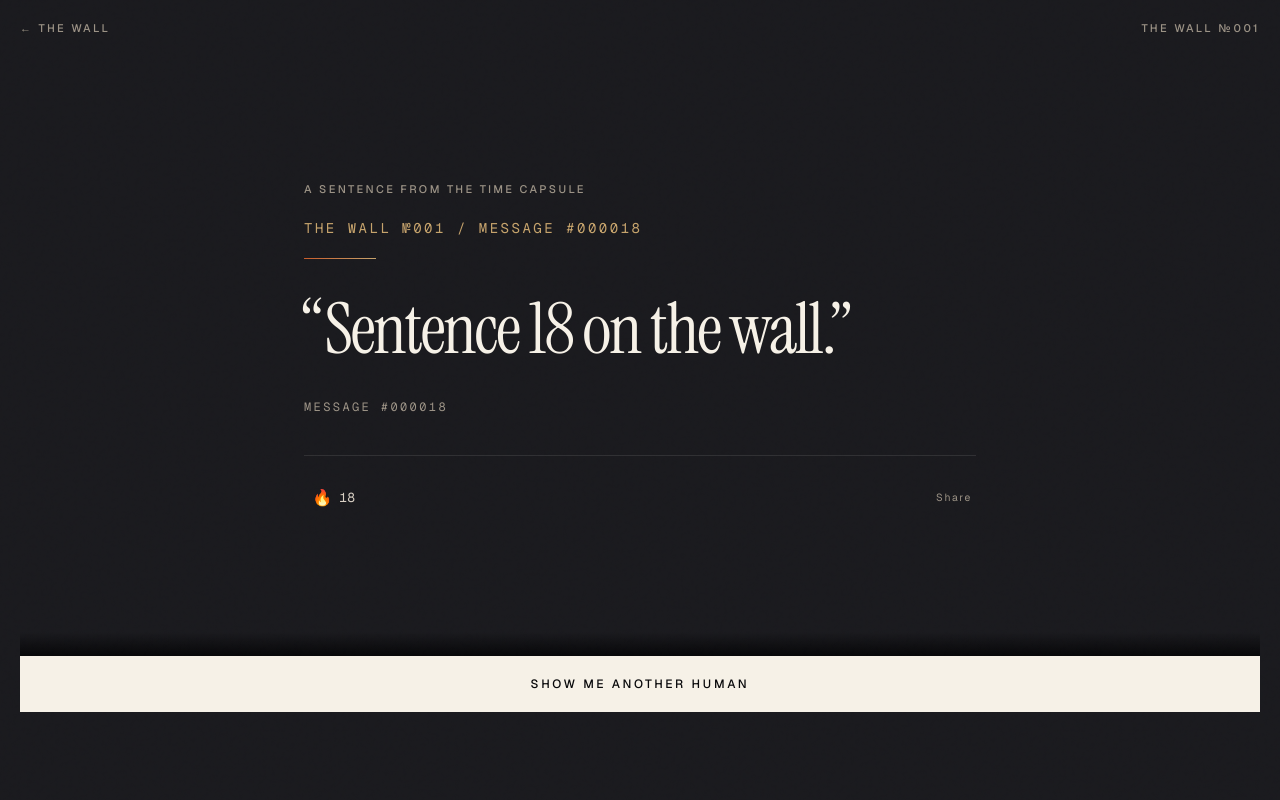
Test: random mode › opens a sentence with number, edition, share, react, and another human
This screenshot has width=1280, height=800.
Expected: the text "THE WALL №001 / MESSAGE #000018" is shown, [304,219,642,237]
Expected: the link "← The Wall" is shown, [20,20,110,37]
Click the button "SHOW ME ANOTHER HUMAN" at (640, 684), box [20,656,1260,712]
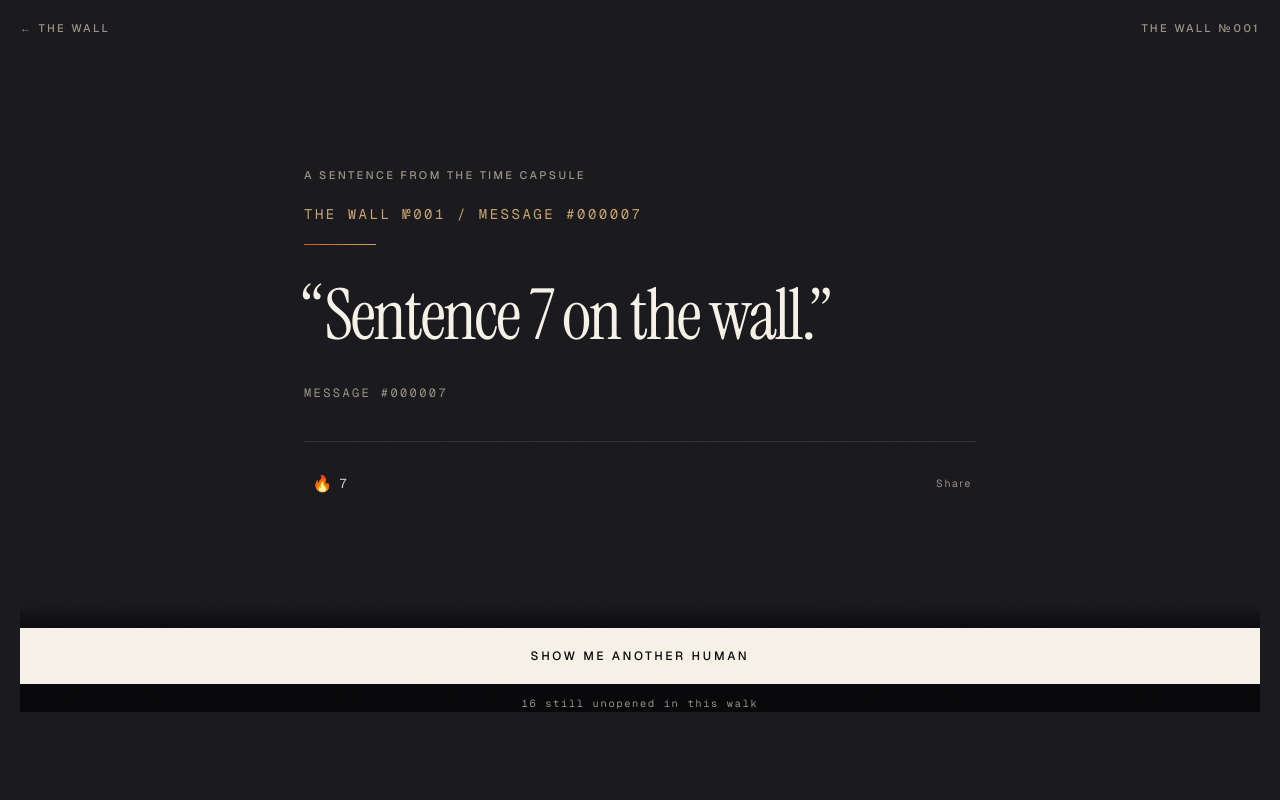
Now the text "“Sentence 7 on the wall.”" is shown, box [304,269,830,361]
